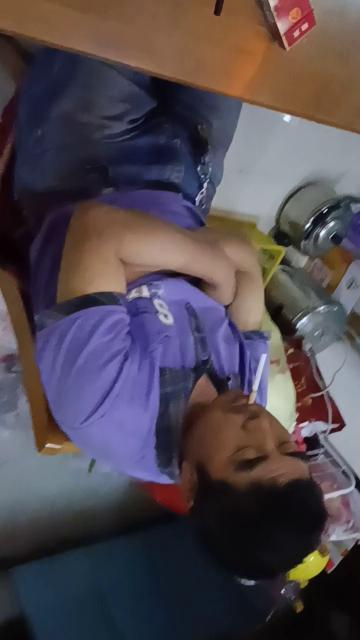Smoking: (248, 354, 268, 404)
